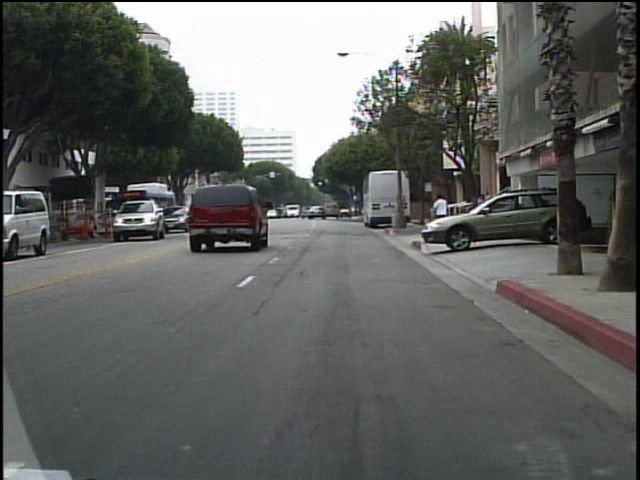person: (429, 191, 452, 239)
